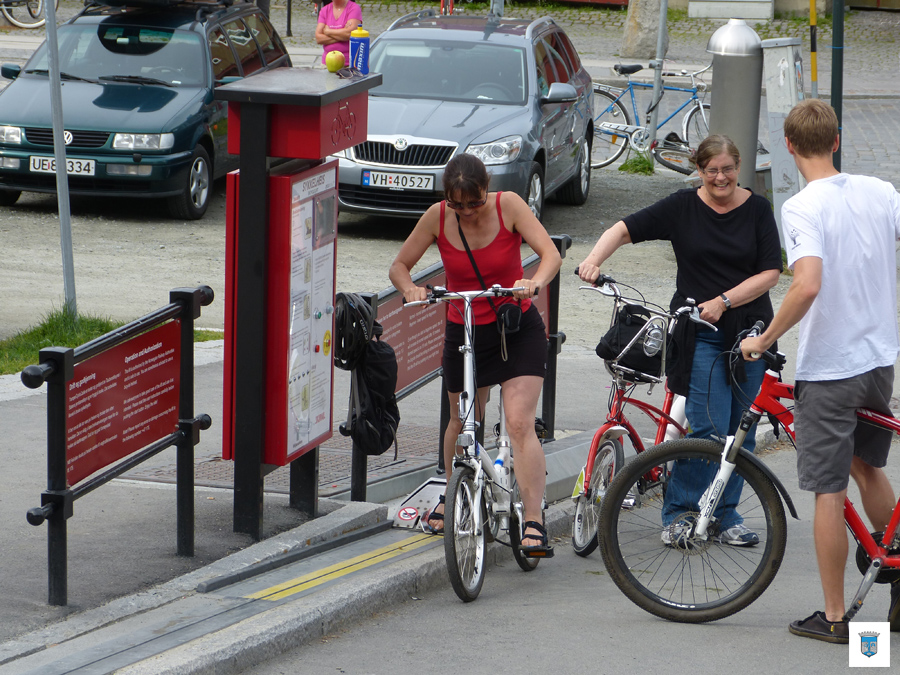Person: (739, 97, 899, 646), (581, 132, 782, 549), (389, 153, 564, 550)
